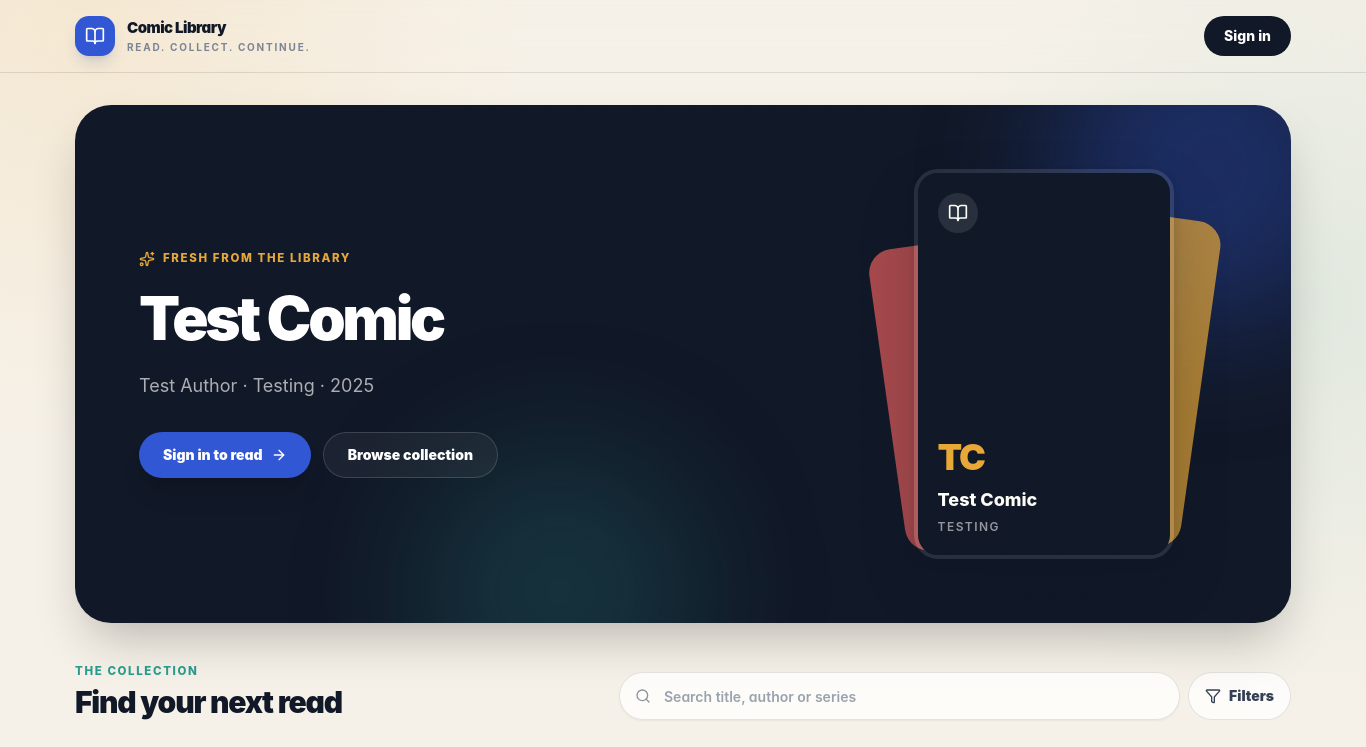
Test case: Catalog page › shows an empty state when search has no matches
Type "something that does not exist" into the field with placeholder "Search title, author or series" at (900, 696), box [619,672,1180,720]
(page scrolled)
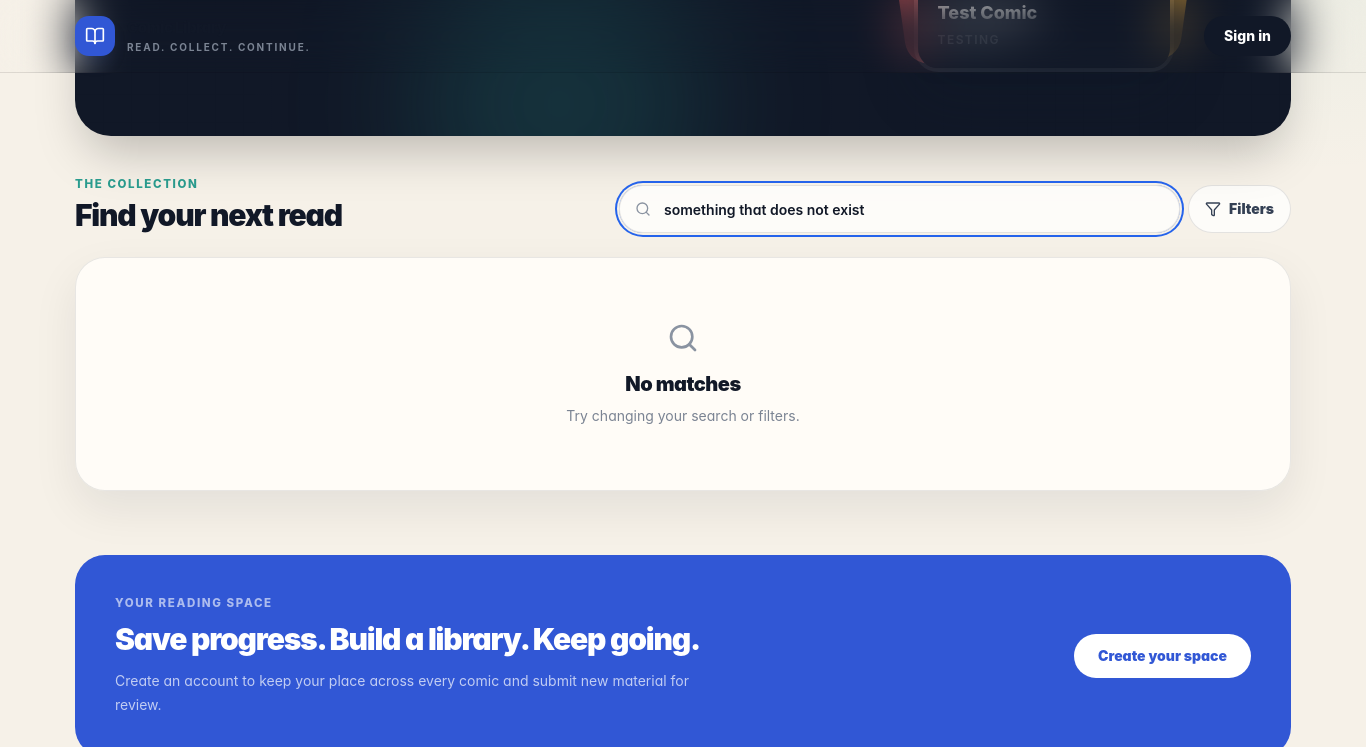
Check: the heading "No matches" is shown, box [625,372,741,396]
